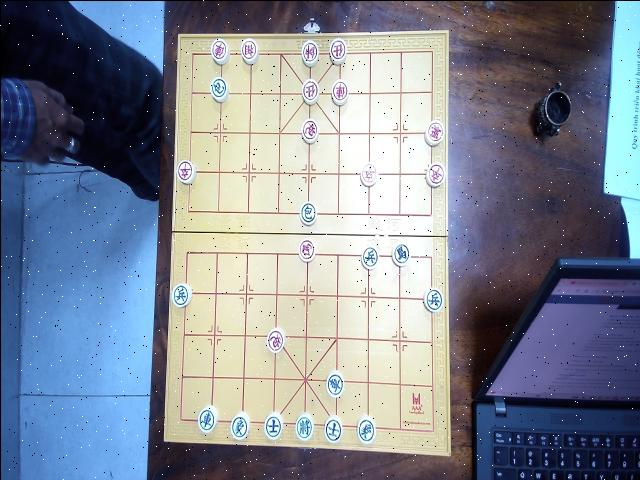piece: (197, 404, 218, 432), (294, 412, 314, 440), (230, 411, 250, 439), (355, 415, 375, 443), (325, 370, 345, 398), (171, 282, 192, 308), (424, 118, 444, 145), (423, 286, 443, 312), (176, 158, 196, 184), (425, 162, 445, 188), (209, 76, 229, 102), (265, 327, 285, 353), (328, 36, 346, 64), (324, 414, 342, 442), (300, 38, 318, 66), (264, 412, 282, 440), (240, 38, 259, 64), (210, 38, 229, 64), (391, 241, 410, 267), (301, 78, 319, 104), (300, 116, 318, 142), (330, 79, 348, 105), (360, 244, 378, 270), (298, 201, 316, 226), (359, 162, 377, 186), (297, 238, 315, 262)
